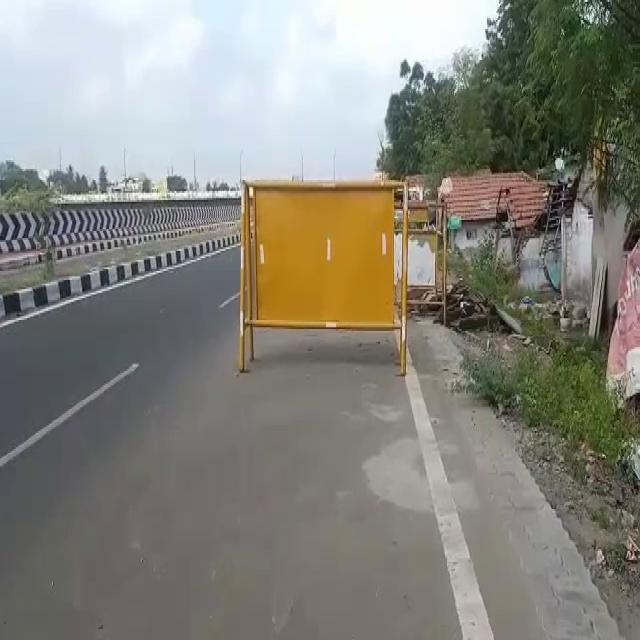fallen_object: (213, 156, 432, 384)
